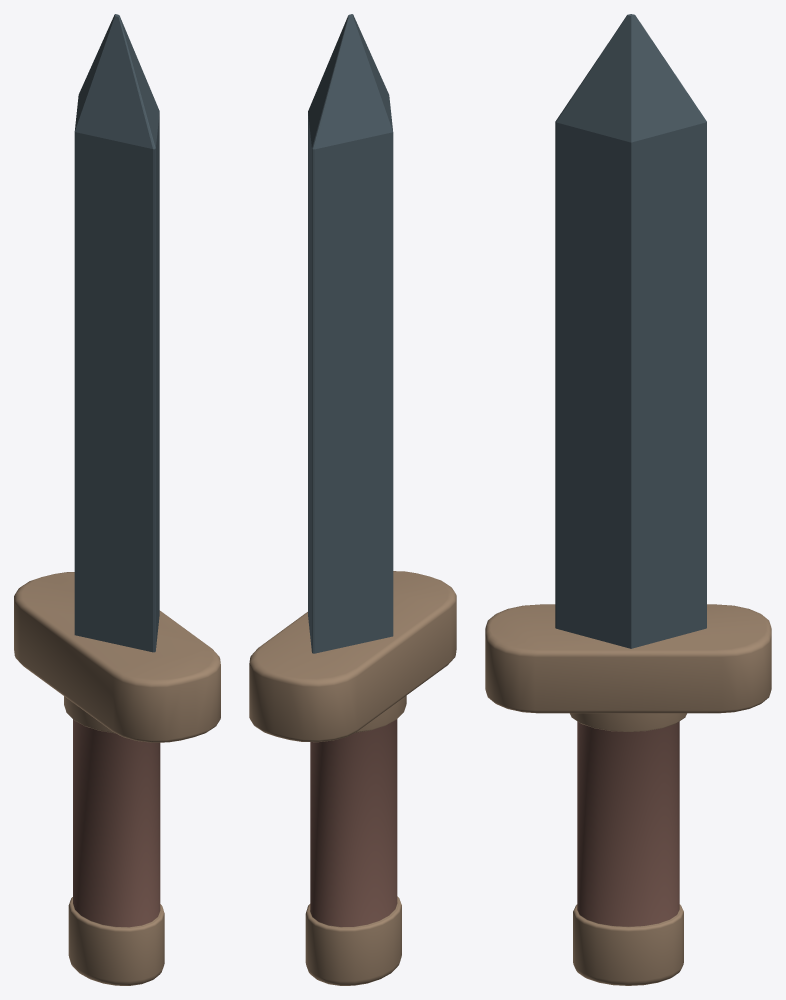
Rendered from Sword.fbx.
3 renders of one model, left to right at view 1: azimuth 30°, elevation 25°; view 2: azimuth 150°, elevation 25°; view 3: azimuth 270°, elevation 25°, orthographic.
Parts seen in each view (by area): view 1: Sword; view 2: Sword; view 3: Sword.
Boxes of the visible parts, x1,y1,x2,y2 form: Sword: (14,14,220,985); Sword: (249,14,456,985); Sword: (485,14,771,985).
Bounding box in the file's own units: 58.5 × 524 × 142.
